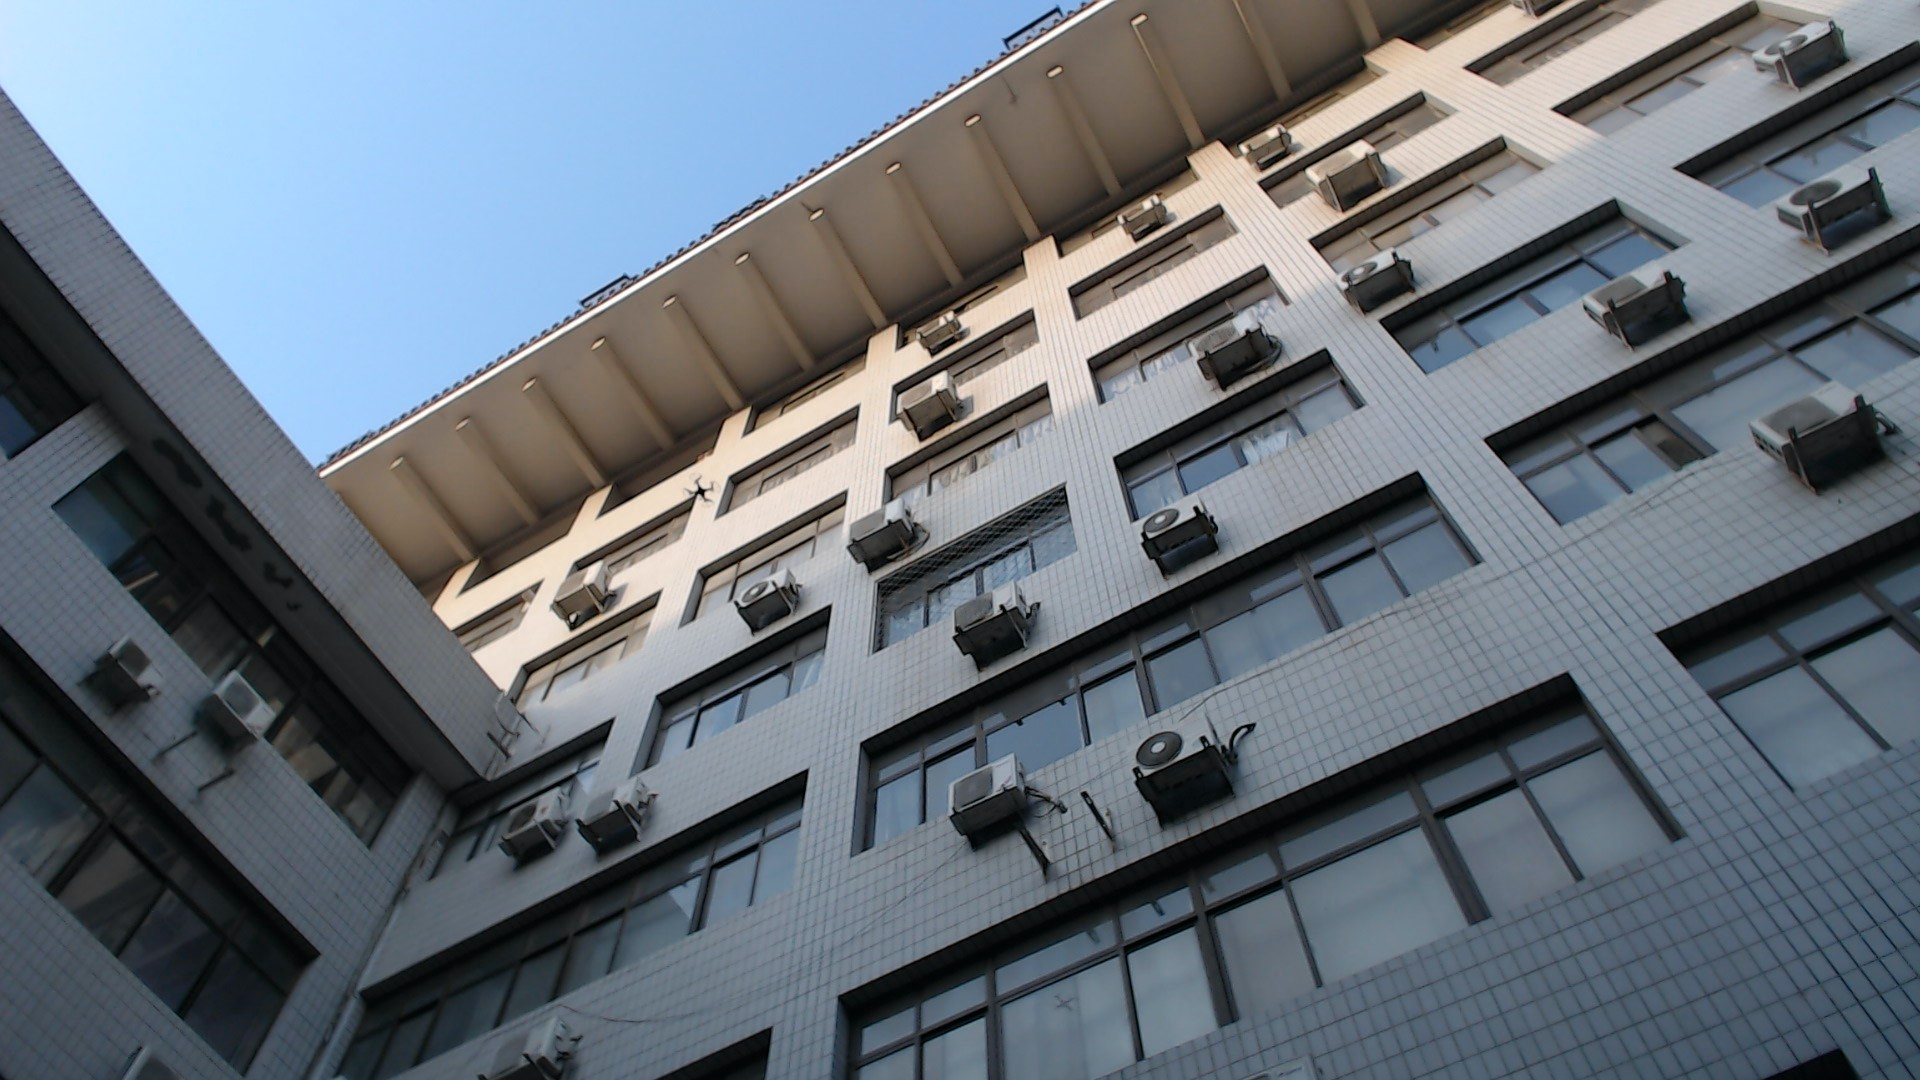drone: (679, 469, 723, 509)
